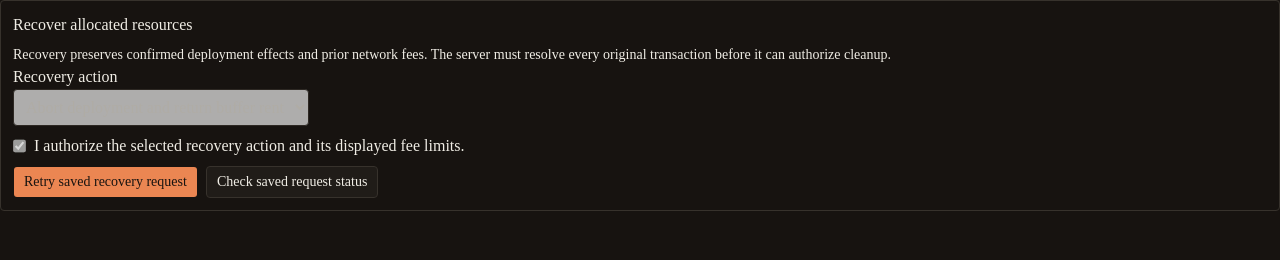
Test: reconciles a saved original request only when the server version proves its CAS cannot admit (7)
Click the button "Check saved request status" at (292, 182), box [206, 166, 378, 198]
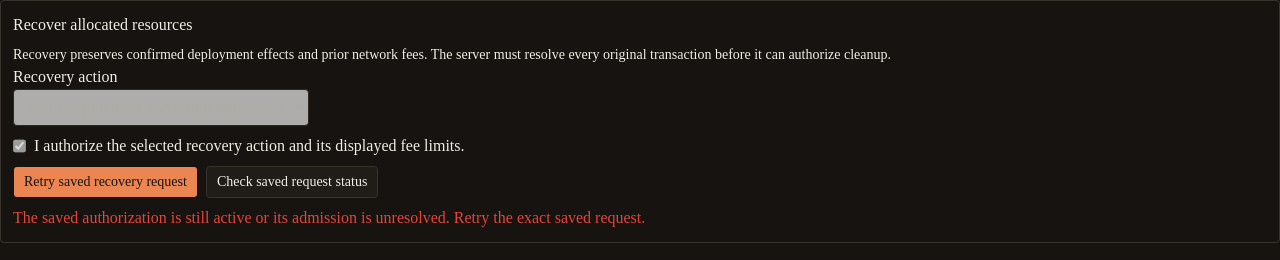
Expected: the message is shown, [13, 209, 645, 226]
